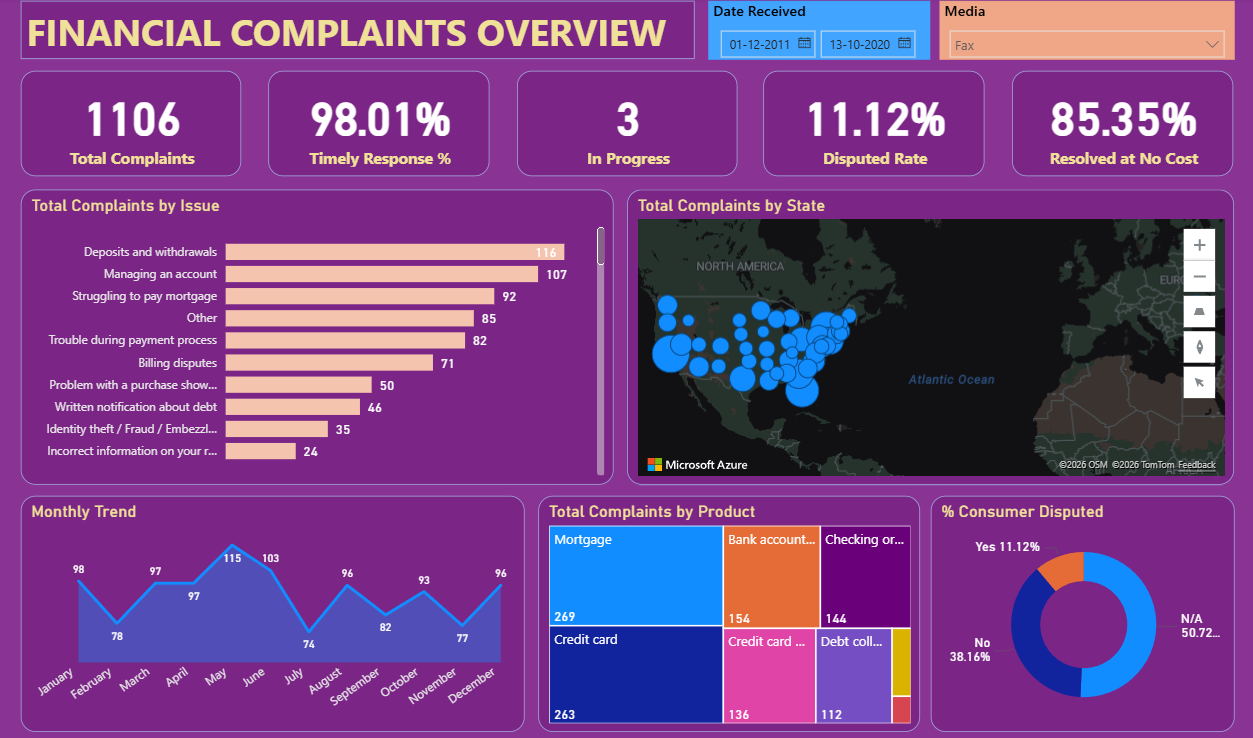

The dashboard page shown, as its layout file describes it:
{"tool":"powerbi","page":{"name":"Page 1","canvas":[1280,758],"ordinal":0},"visuals":[{"type":"card","fields":{"Values":["Financial Consumer Complaints_Financial Consumer Complaints.Total Complaints"]},"box":[23.8,75.2,223.9,107],"z":0},{"type":"textbox","box":[23.8,3.6,684.8,59.5],"z":1000},{"type":"card","fields":{"Values":["Financial Consumer Complaints_Financial Consumer Complaints.Tomely Response %"]},"box":[275.5,75.2,225.1,107],"z":2000},{"type":"card","fields":{"Values":["Financial Consumer Complaints_Financial Consumer Complaints.In Progress Complaints"]},"box":[527.9,75.2,223.9,107],"z":3000},{"type":"card","fields":{"Values":["Financial Consumer Complaints_Financial Consumer Complaints.Consumer Disputed Rate"]},"box":[779.1,75.2,225,107],"z":4000},{"type":"card","fields":{"Values":["Financial Consumer Complaints_Financial Consumer Complaints.Resolved at No Cost"]},"box":[1031.3,75.2,225.1,107],"z":5000},{"type":"barChart","fields":{"Category":["Financial Consumer Complaints_Financial Consumer Complaints.Issue"],"Y":["Financial Consumer Complaints_Financial Consumer Complaints.Total Complaints"]},"box":[24.4,195.1,602.3,299.9],"z":6000},{"type":"azureMap","fields":{"Category":["Financial Consumer Complaints_Financial Consumer Complaints.State"],"Size":["Financial Consumer Complaints_Financial Consumer Complaints.Total Complaints"]},"box":[640.1,195.1,617,299.9],"z":7000},{"type":"areaChart","title":"Monthly Trend","fields":{"Category":["Financial Consumer Complaints_Financial Consumer Complaints.Date Received.Variation.Date Hierarchy.Month"],"Y":["Financial Consumer Complaints_Financial Consumer Complaints.Total Complaints"]},"box":[24.4,507.2,512.1,240.2],"z":8000},{"type":"treemap","fields":{"Group":["Financial Consumer Complaints_Financial Consumer Complaints.Product"],"Values":["Financial Consumer Complaints_Financial Consumer Complaints.Total Complaints"]},"box":[549.9,507.2,387.7,240.2],"z":9000},{"type":"donutChart","title":"% Consumer Disputed","fields":{"Category":["Financial Consumer Complaints_Financial Consumer Complaints.Consumer disputed?"],"Y":["Financial Consumer Complaints_Financial Consumer Complaints.Total Complaints"]},"box":[948.6,507.2,308.5,240.2],"z":10000},{"type":"slicer","title":"Date Received","fields":{"Values":["Financial Consumer Complaints_Financial Consumer Complaints.Date Received"]},"box":[723,3.7,225.6,59.7],"z":11000},{"type":"slicer","title":"Media","fields":{"Values":["Financial Consumer Complaints_Financial Consumer Complaints.Submitted via"]},"box":[957.1,3.7,299.9,59.7],"z":12000}]}

Visuals, with their boxes in screenshot pixels (x1, y1, x2, y2), scaled from the page's 1280x758 canvas onto the 1253x738 screenshot:
card - Financial Consumer Complaints_Financial Consumer Complaints.Total Complaints: {"x1": 23, "y1": 73, "x2": 242, "y2": 177}
textbox: {"x1": 23, "y1": 4, "x2": 694, "y2": 61}
card - Financial Consumer Complaints_Financial Consumer Complaints.Tomely Response %: {"x1": 270, "y1": 73, "x2": 490, "y2": 177}
card - Financial Consumer Complaints_Financial Consumer Complaints.In Progress Complaints: {"x1": 517, "y1": 73, "x2": 736, "y2": 177}
card - Financial Consumer Complaints_Financial Consumer Complaints.Consumer Disputed Rate: {"x1": 763, "y1": 73, "x2": 983, "y2": 177}
card - Financial Consumer Complaints_Financial Consumer Complaints.Resolved at No Cost: {"x1": 1010, "y1": 73, "x2": 1230, "y2": 177}
barChart - Financial Consumer Complaints_Financial Consumer Complaints.Issue x Financial Consumer Complaints_Financial Consumer Complaints.Total Complaints: {"x1": 24, "y1": 190, "x2": 613, "y2": 482}
azureMap - Financial Consumer Complaints_Financial Consumer Complaints.State x Financial Consumer Complaints_Financial Consumer Complaints.Total Complaints: {"x1": 627, "y1": 190, "x2": 1231, "y2": 482}
"Monthly Trend" areaChart: {"x1": 24, "y1": 494, "x2": 525, "y2": 728}
treemap - Financial Consumer Complaints_Financial Consumer Complaints.Product x Financial Consumer Complaints_Financial Consumer Complaints.Total Complaints: {"x1": 538, "y1": 494, "x2": 918, "y2": 728}
"% Consumer Disputed" donutChart: {"x1": 929, "y1": 494, "x2": 1231, "y2": 728}
"Date Received" slicer: {"x1": 708, "y1": 4, "x2": 929, "y2": 62}
"Media" slicer: {"x1": 937, "y1": 4, "x2": 1230, "y2": 62}
